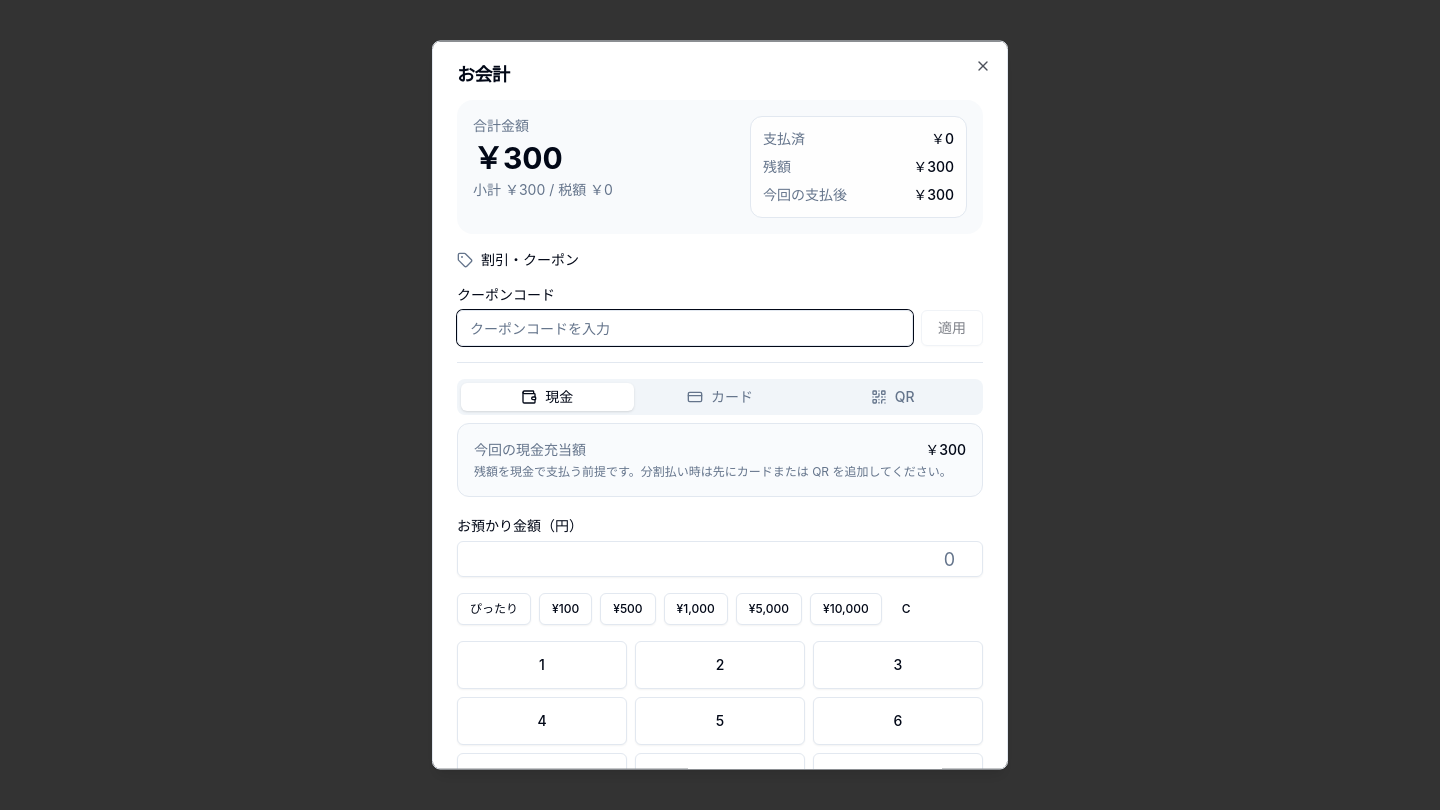
Test: CheckoutDialog › カードタブに切り替えると決済金額と参照番号入力が表示される
What coordinates should you click on to do the following:
click the tab "カード"
I would click on:
 (720, 396)
Its box is [634, 382, 806, 410].
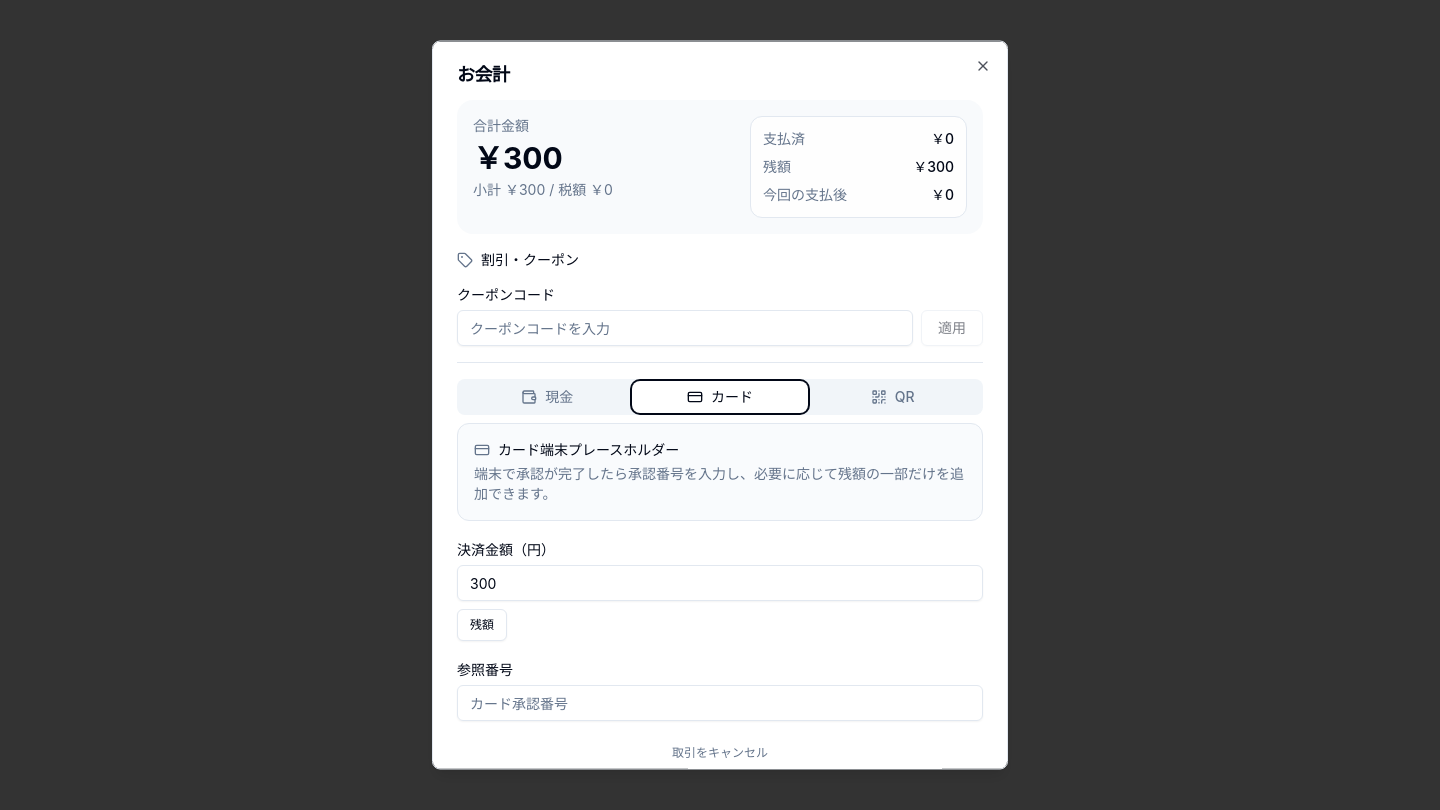
Check: the number field with placeholder "残額を入力" is shown, box [457, 564, 983, 600]
Check: the field with placeholder "カード承認番号" is shown, box [457, 684, 983, 720]
Check: the text "カード端末プレースホルダー" is shown, box [498, 440, 679, 460]
